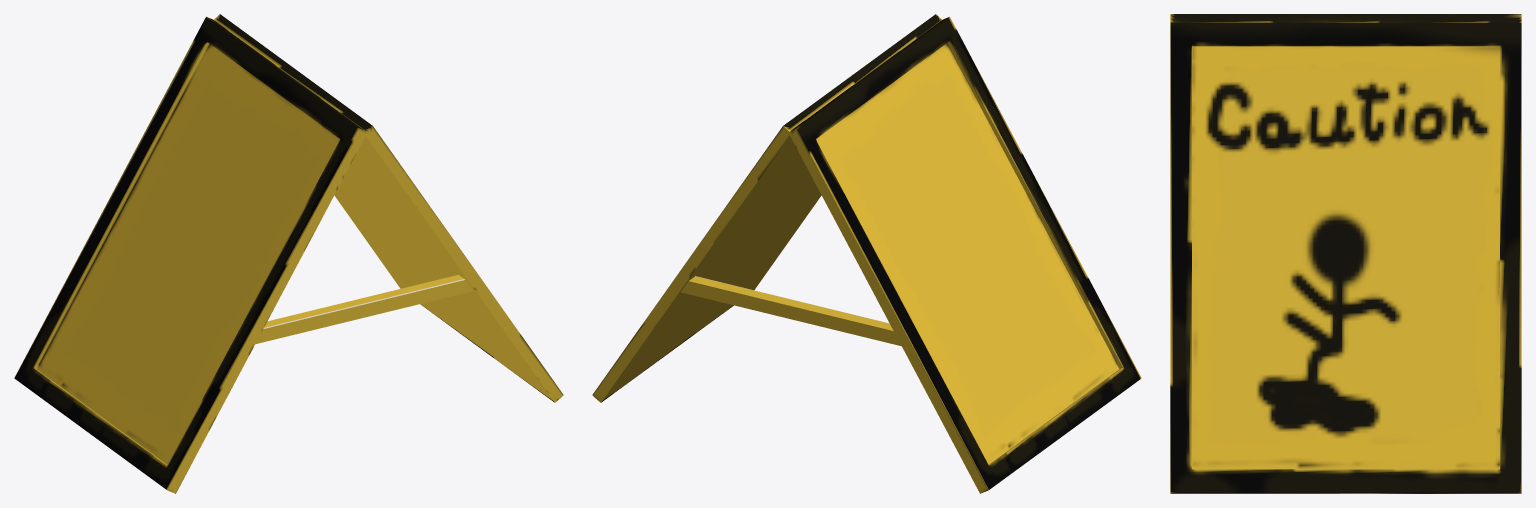
Rendered from StreetStructures_Poster.fbx.
The picture shows the model from 3 angles, left to right: view 1: azimuth 30°, elevation 25°; view 2: azimuth 150°, elevation 25°; view 3: azimuth 270°, elevation 25°; orthographic projection. The views are drawn at different scales.
Visible parts, largest first — view 1: Poster1; view 2: Poster1; view 3: Poster1.
Part boxes in pixels (box(x1,y1,x2,y2)): Poster1: box(14, 14, 563, 493); Poster1: box(592, 14, 1141, 493); Poster1: box(1170, 14, 1521, 493).
Size of the model in its own units: 126 by 97.51 by 83.91.
